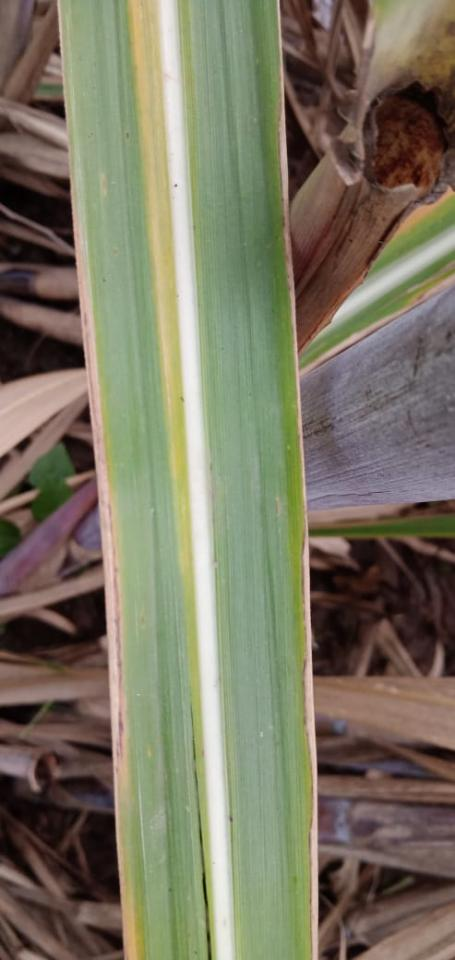Yellow: (70, 171, 140, 959), (277, 0, 319, 959), (127, 0, 175, 407)
